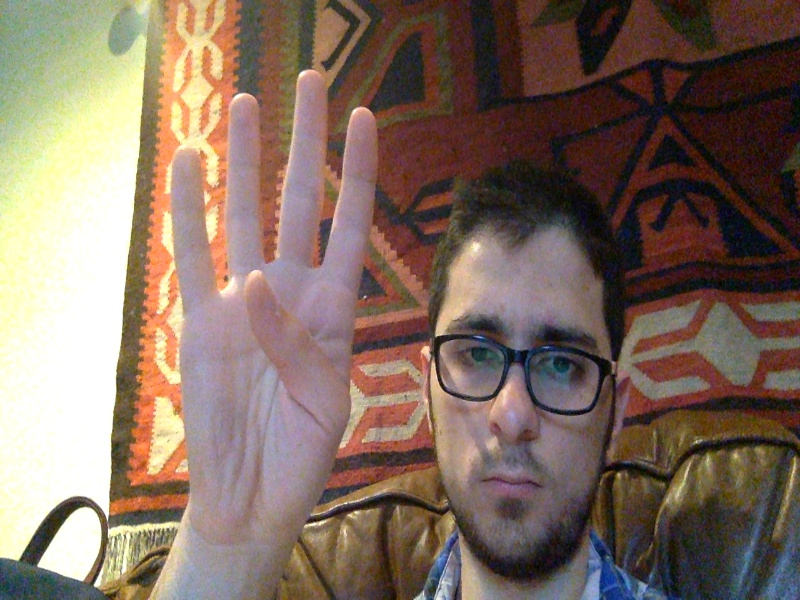4-hand: (171, 68, 377, 545)
